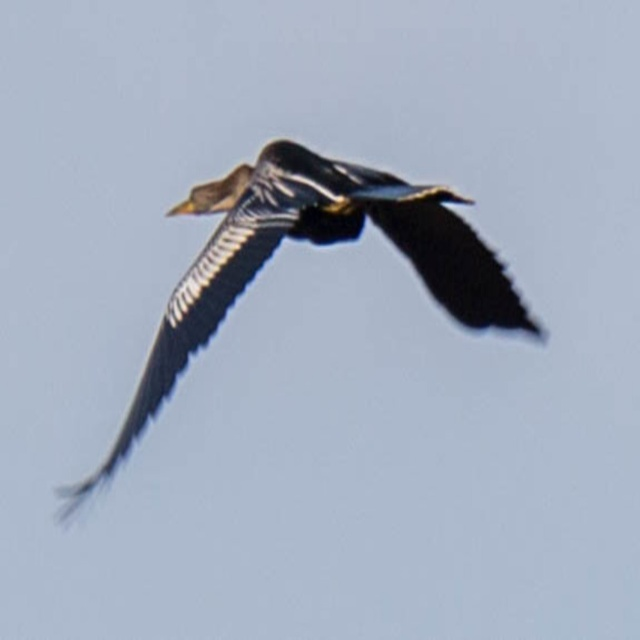Eagle: (50, 134, 543, 523)
